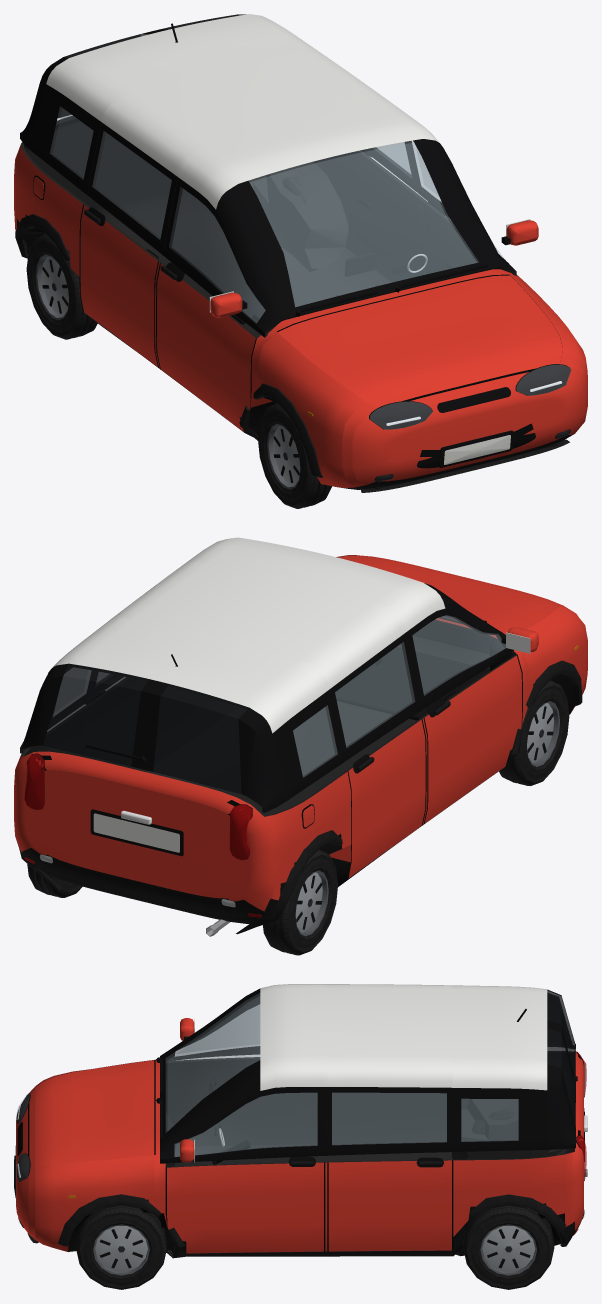
Rendered from pico_lod2.glb.
3 renders of one model, top to bottom at view 1: azimuth 30°, elevation 25°; view 2: azimuth 150°, elevation 25°; view 3: azimuth 270°, elevation 25°, orthographic. The views are drawn at different scales.
Visible parts, largest first — view 1: pico, hood, door_FR, door_RR, door_RL, popout_RR, wheel_RR, wheel_FR, door_FL, tailgate; view 2: pico, tailgate, door_FR, door_RR, hood, popout_RR, wheel_RR, door_RL, wheel_FR, door_FL, wheel_RL; view 3: pico, door_FL, door_RL, hood, door_FR, wheel_RL, wheel_FL, popout_RL, door_RR, tailgate.
Boxes of the visible parts, x1,y1,x2,y2 form: pico: [14, 14, 587, 492]; hood: [278, 275, 562, 408]; door_FR: [155, 177, 271, 440]; door_RR: [80, 122, 174, 366]; door_RL: [345, 141, 422, 282]; popout_RR: [92, 131, 171, 239]; wheel_RR: [26, 233, 97, 339]; wheel_FR: [258, 403, 331, 508]; door_FL: [408, 141, 538, 274]; tailgate: [20, 14, 246, 150]; pico: [14, 537, 587, 936]; tailgate: [20, 664, 286, 824]; door_FR: [407, 608, 538, 824]; door_RR: [330, 633, 425, 878]; hood: [338, 555, 561, 634]; popout_RR: [335, 642, 414, 748]; wheel_RR: [263, 849, 337, 955]; door_RL: [83, 671, 160, 771]; wheel_FR: [499, 680, 569, 785]; door_FL: [158, 687, 238, 759]; wheel_RL: [27, 864, 82, 897]; pico: [14, 984, 587, 1258]; door_FL: [167, 1087, 327, 1257]; door_RL: [328, 1087, 451, 1251]; hood: [29, 1060, 154, 1168]; door_FR: [167, 1000, 317, 1163]; wheel_RL: [463, 1205, 554, 1289]; wheel_FL: [76, 1204, 166, 1289]; popout_RL: [332, 1092, 446, 1144]; door_RR: [332, 1092, 446, 1143]; tailgate: [547, 989, 587, 1149].
Bounding box in the file's own units: 1.96 × 1.58 × 3.59.
41 materials, 5 textured.
